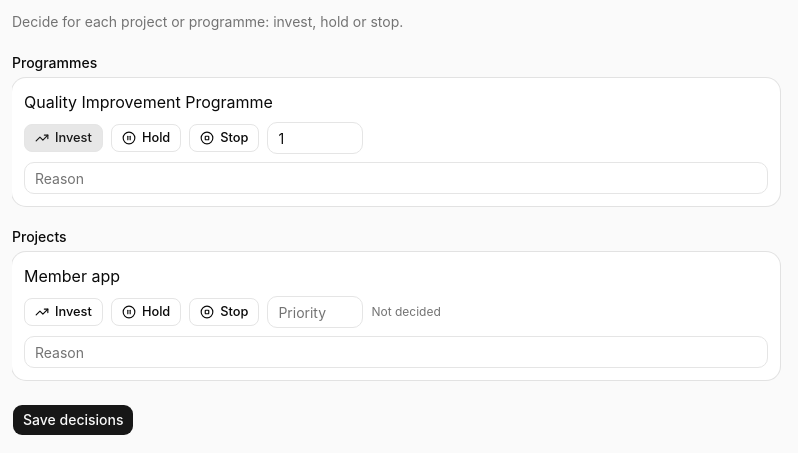
Test: a portfolio's holdings and decisions › lists what names it, and saves a decision for each in its own file
Expected: the text "Quality Improvement Programme" is shown, [24, 92, 273, 112]
Expected: the text "Not decided" is shown, [371, 304, 441, 320]
Click the radio button labelled "Hold" in the row of "Not decided" at (146,312), box [111, 298, 181, 326]
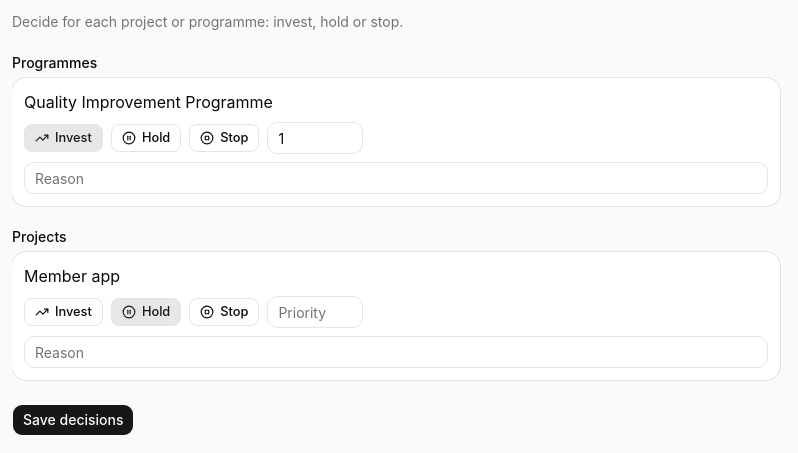
Type "Wait for the pilot" into the field labelled "Reason" below "Member app" at (396,352), box [24, 336, 768, 368]
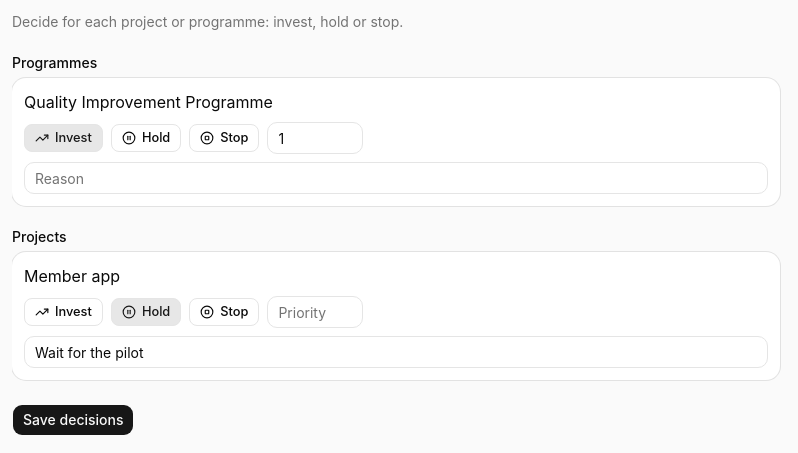
Click the button "Save decisions" at (73,420), box [12, 404, 134, 436]
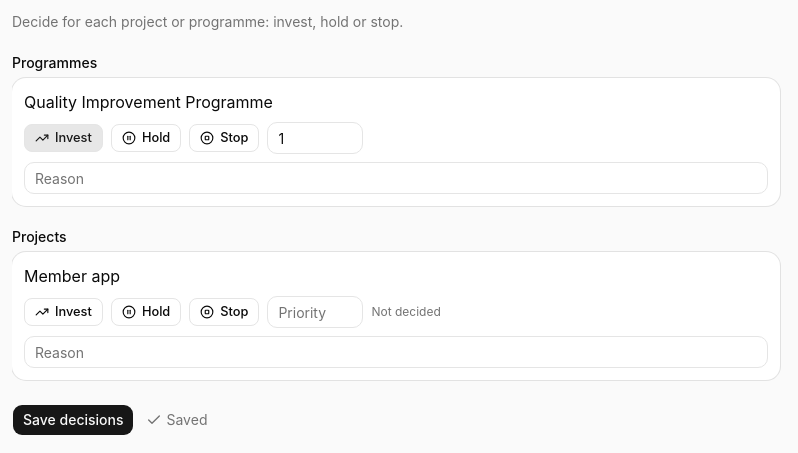
Now the message reads "Saved", box [166, 411, 208, 428]
